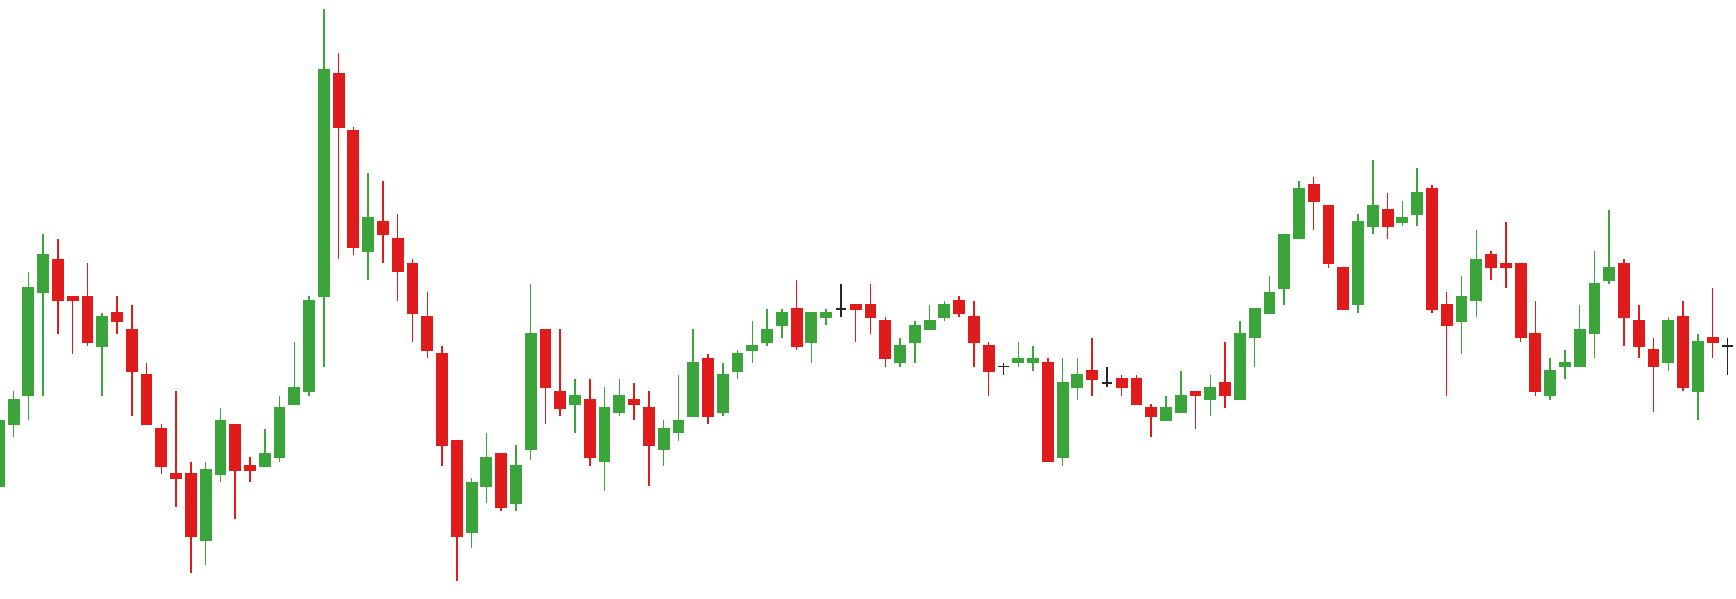buy: (184, 333, 480, 581)
sell: (1499, 211, 1618, 320), (1289, 161, 1381, 268)
